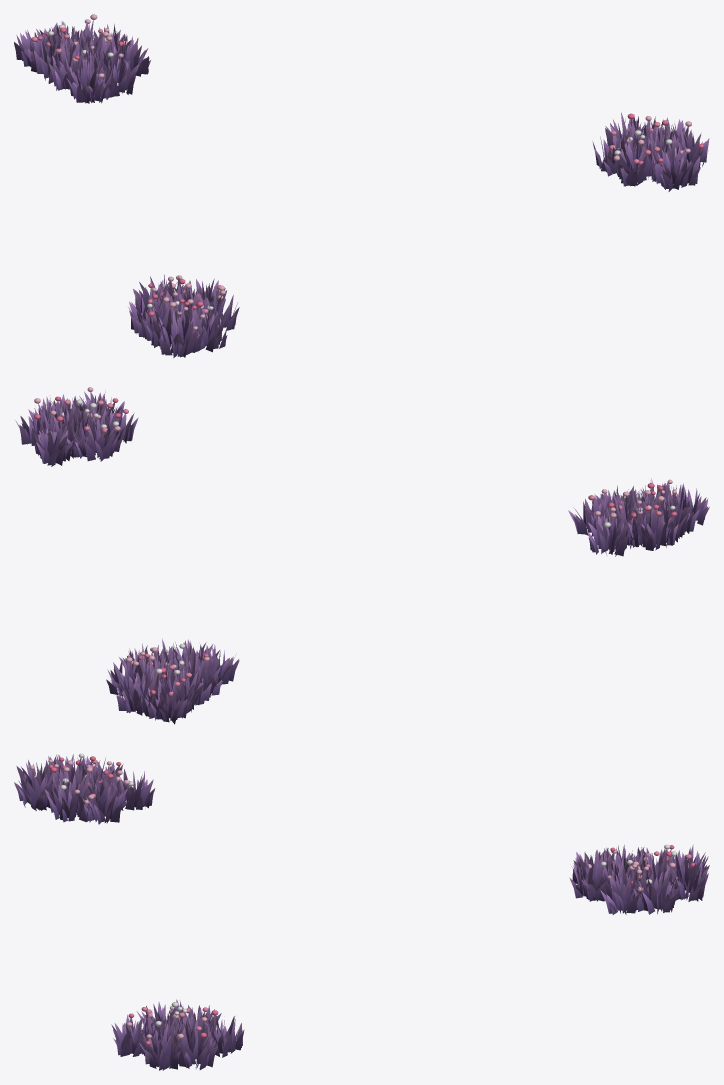
The model's file is beacon_grass.glb.
The picture shows the model from 3 angles, top to bottom: view 1: azimuth 30°, elevation 25°; view 2: azimuth 150°, elevation 25°; view 3: azimuth 270°, elevation 25°; orthographic projection. The views are drawn at different scales.
Parts seen in each view (by area): view 1: Grass_27_22, Grass_7_25, Grass_14_7, Grass_15_7, Grass_26_21, Grass_7_24, Grass_8_25, Grass_14_5, Grass_27_21, Grass_16_6, Grass_14_6, Grass_14_4 (+9 smaller); view 2: Grass_26_20, Grass_7_23, Grass_8_22, Grass_14_4, Grass_15_4, Grass_14_5, Grass_27_19, Grass_8_23, Grass_7_24, Grass_26_21, Grass_27_20, Grass_14_6 (+9 smaller); view 3: Grass_16_5, Grass_9_24, Grass_9_23, Grass_16_6, Grass_28_21, Grass_28_20, Grass_15_7, Grass_27_22, Grass_15_4, Grass_8_25, Grass_8_22, Grass_27_19 (+8 smaller).
Part boxes in pixels (x1=…): Grass_27_22: x1=651, y1=139, x2=700, y2=191; Grass_7_25: x1=154, y1=299, x2=205, y2=358; Grass_14_7: x1=66, y1=52, x2=111, y2=103; Grass_15_7: x1=89, y1=51, x2=138, y2=99; Grass_26_21: x1=613, y1=130, x2=650, y2=186; Grass_7_24: x1=136, y1=296, x2=184, y2=347; Grass_8_25: x1=181, y1=301, x2=227, y2=352; Grass_14_5: x1=31, y1=27, x2=77, y2=83; Grass_27_21: x1=638, y1=122, x2=678, y2=181; Grass_16_6: x1=102, y1=28, x2=150, y2=76; Grass_14_6: x1=49, y1=41, x2=93, y2=90; Grass_14_4: x1=14, y1=22, x2=57, y2=72; Grass_26_20: x1=67, y1=411, x2=123, y2=461; Grass_7_23: x1=628, y1=504, x2=678, y2=550; Grass_8_22: x1=587, y1=511, x2=637, y2=556; Grass_14_4: x1=144, y1=679, x2=198, y2=724; Grass_15_4: x1=116, y1=669, x2=164, y2=716; Grass_14_5: x1=160, y1=660, x2=211, y2=709; Grass_27_19: x1=31, y1=422, x2=80, y2=466; Grass_8_23: x1=603, y1=491, x2=646, y2=547; Grass_7_24: x1=644, y1=485, x2=699, y2=542; Grass_26_21: x1=84, y1=403, x2=138, y2=443; Grass_27_20: x1=44, y1=402, x2=92, y2=452; Grass_14_6: x1=178, y1=647, x2=221, y2=697; Grass_16_5: x1=632, y1=863, x2=680, y2=914; Grass_9_24: x1=44, y1=774, x2=91, y2=822; Grass_9_23: x1=74, y1=773, x2=127, y2=824; Grass_16_6: x1=600, y1=861, x2=644, y2=914; Grass_28_21: x1=139, y1=1021, x2=184, y2=1070; Grass_28_20: x1=173, y1=1019, x2=217, y2=1069; Grass_15_7: x1=569, y1=849, x2=613, y2=901; Grass_27_22: x1=111, y1=1013, x2=161, y2=1056; Grass_15_4: x1=665, y1=850, x2=708, y2=901; Grass_8_25: x1=14, y1=762, x2=60, y2=810; Grass_8_22: x1=103, y1=769, x2=155, y2=810; Grass_27_19: x1=202, y1=1016, x2=244, y2=1057.
Bounding box in the file's own units: 11.34 × 0.727 × 11.32.
